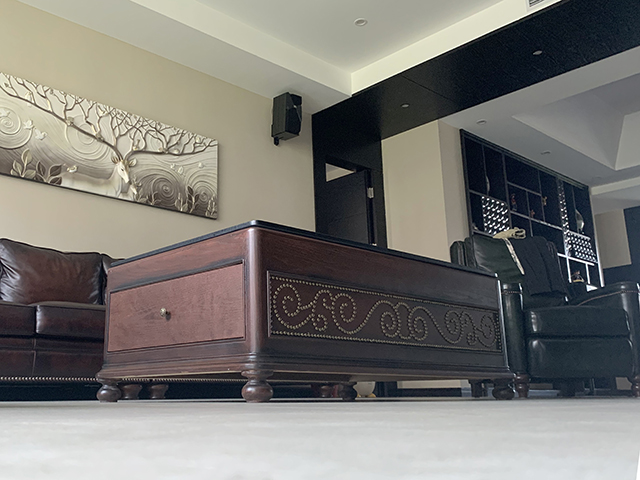sofa: (450, 230, 640, 398), (1, 239, 118, 395)
table: (95, 221, 521, 404)
